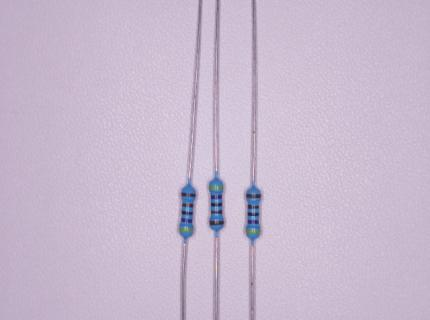Black band: (247, 212, 259, 217), (181, 211, 193, 215), (211, 202, 222, 206)
Brown band: (181, 192, 195, 197), (246, 194, 261, 198), (210, 221, 223, 225), (247, 205, 259, 209), (182, 203, 193, 207), (211, 210, 222, 214)
Violet band: (181, 218, 192, 223), (248, 220, 259, 225), (211, 195, 222, 199)
Yellow band: (209, 185, 223, 189), (246, 230, 260, 234), (179, 229, 193, 232)
